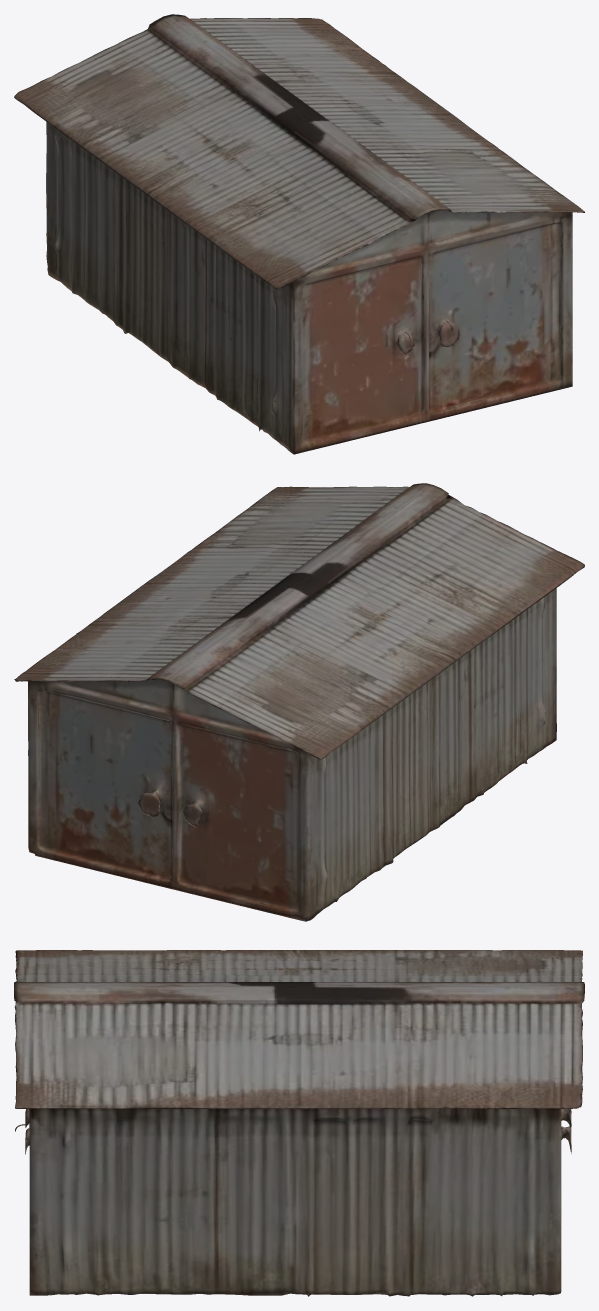
The model's file is garage_block.glb.
The picture shows the model from 3 angles, top to bottom: view 1: azimuth 30°, elevation 25°; view 2: azimuth 150°, elevation 25°; view 3: azimuth 270°, elevation 25°; orthographic projection. The views are drawn at different scales.
Parts seen in each view (by area): view 1: garage_block; view 2: garage_block; view 3: garage_block.
Boxes of the visible parts, bbox=[...] form: garage_block: bbox=[14, 14, 584, 454]; garage_block: bbox=[14, 483, 584, 921]; garage_block: bbox=[14, 950, 584, 1296].
Bounding box in the file's own units: 2.41 × 1.62 × 3.6.
Materials: 1 (1 with a texture image).
